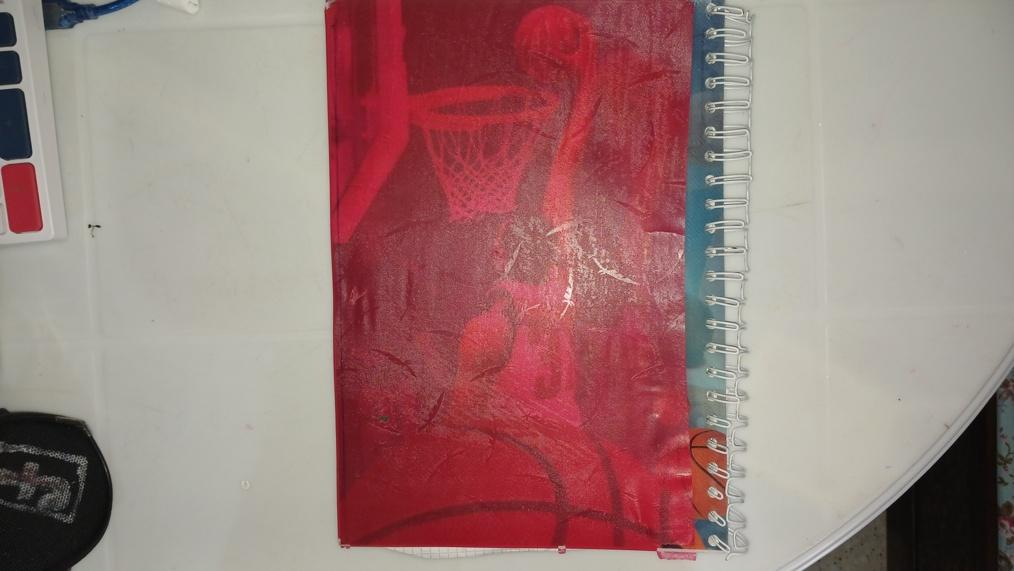notebook: (338, 2, 750, 552)
